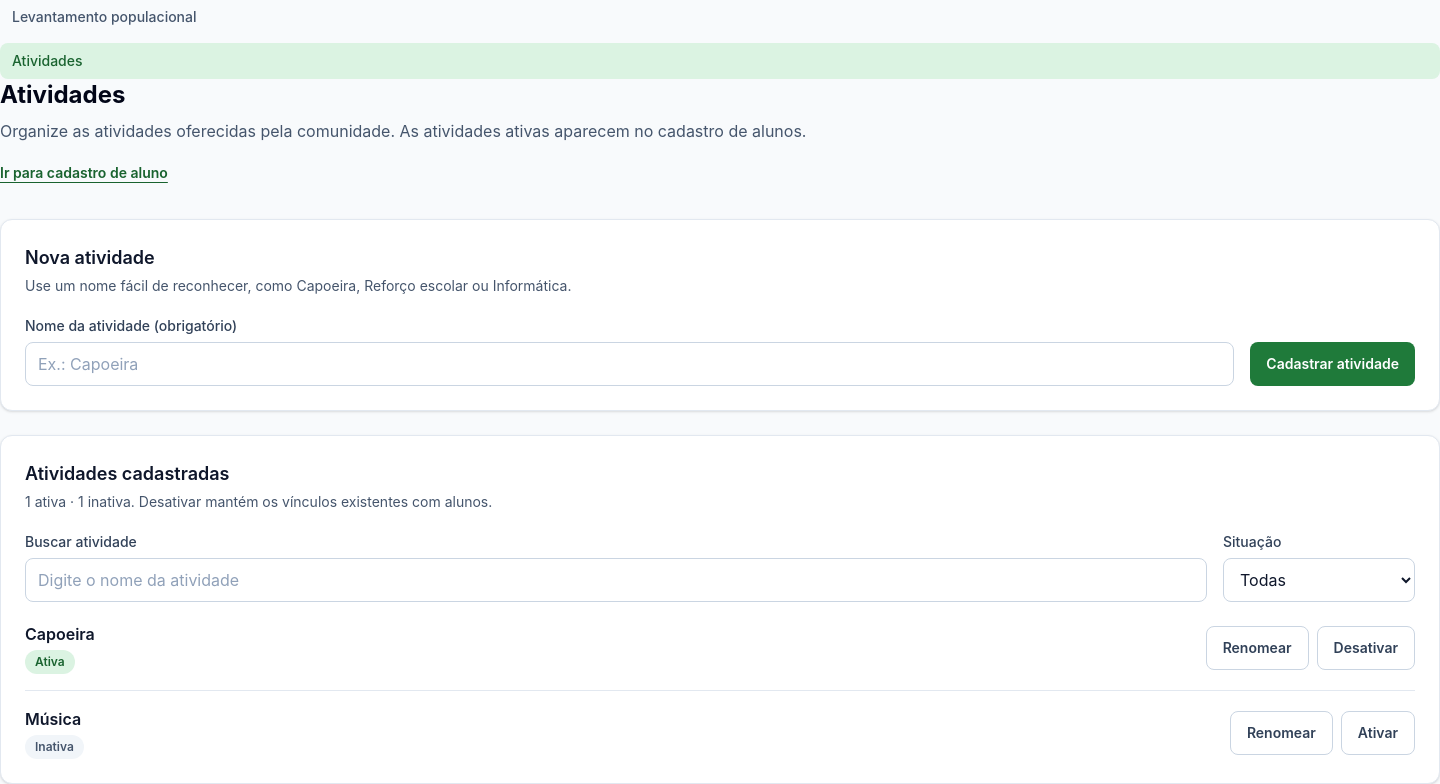
Test: renomeia mantendo o ID, a categoria e a situação da atividade
The width and height of the screenshot is (1440, 784).
(page scrolled)
Click the button with aria-label "Renomear Música" at (1281, 733), box [1230,711,1333,755]
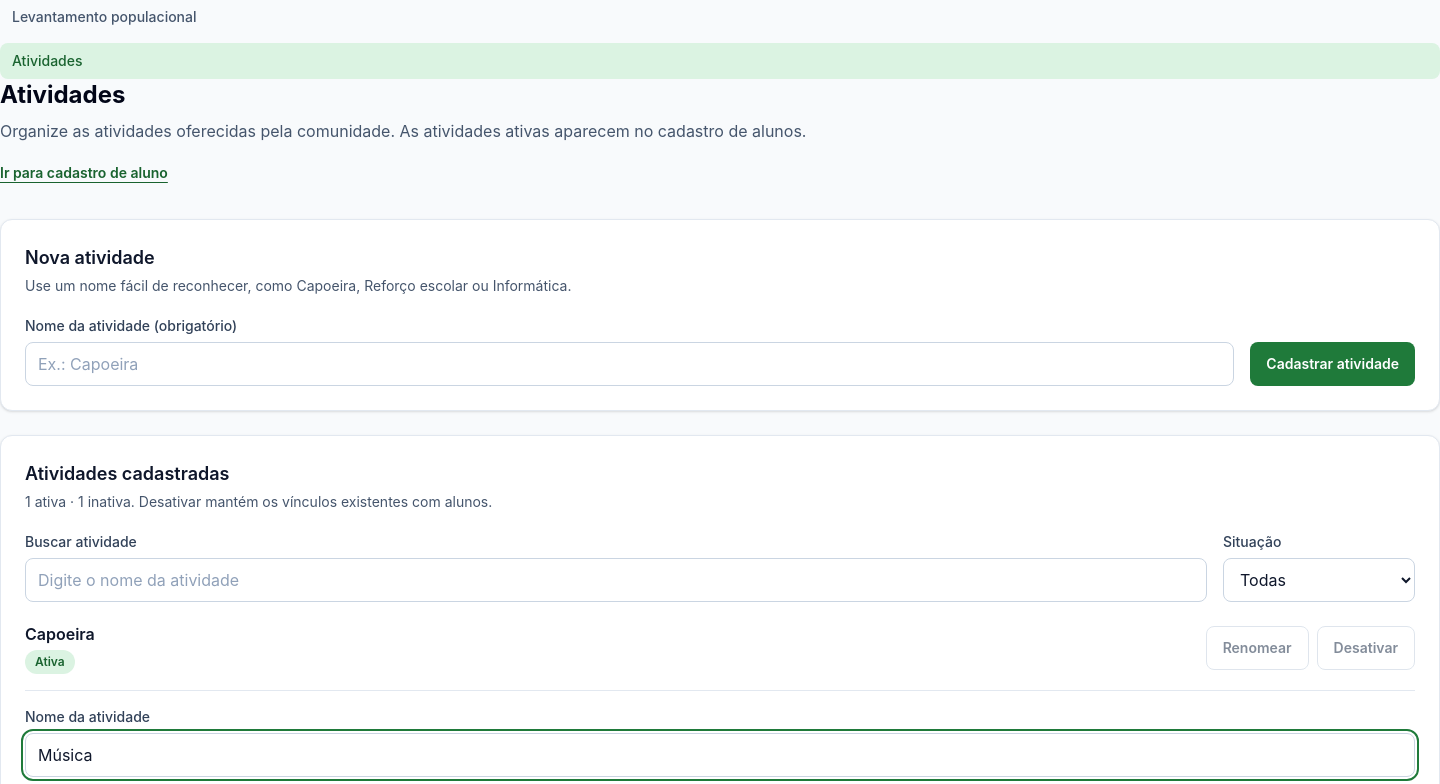
Replace the text in the field labelled "Nome da atividade" with "Musicalização" at (720, 755), box [25,733,1415,777]
(page scrolled)
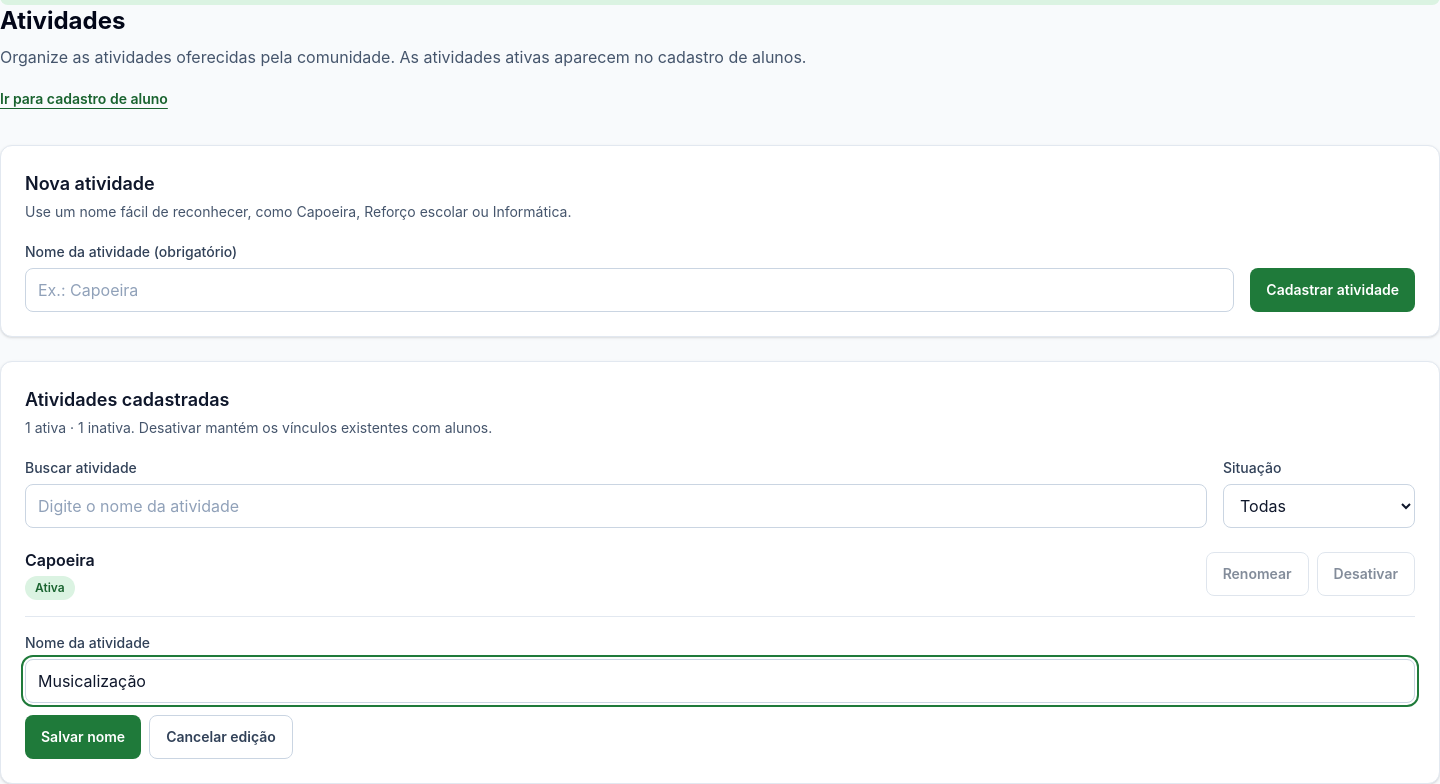
Click the button "Salvar nome" at (83, 737), box [25,715,141,759]
(page scrolled)
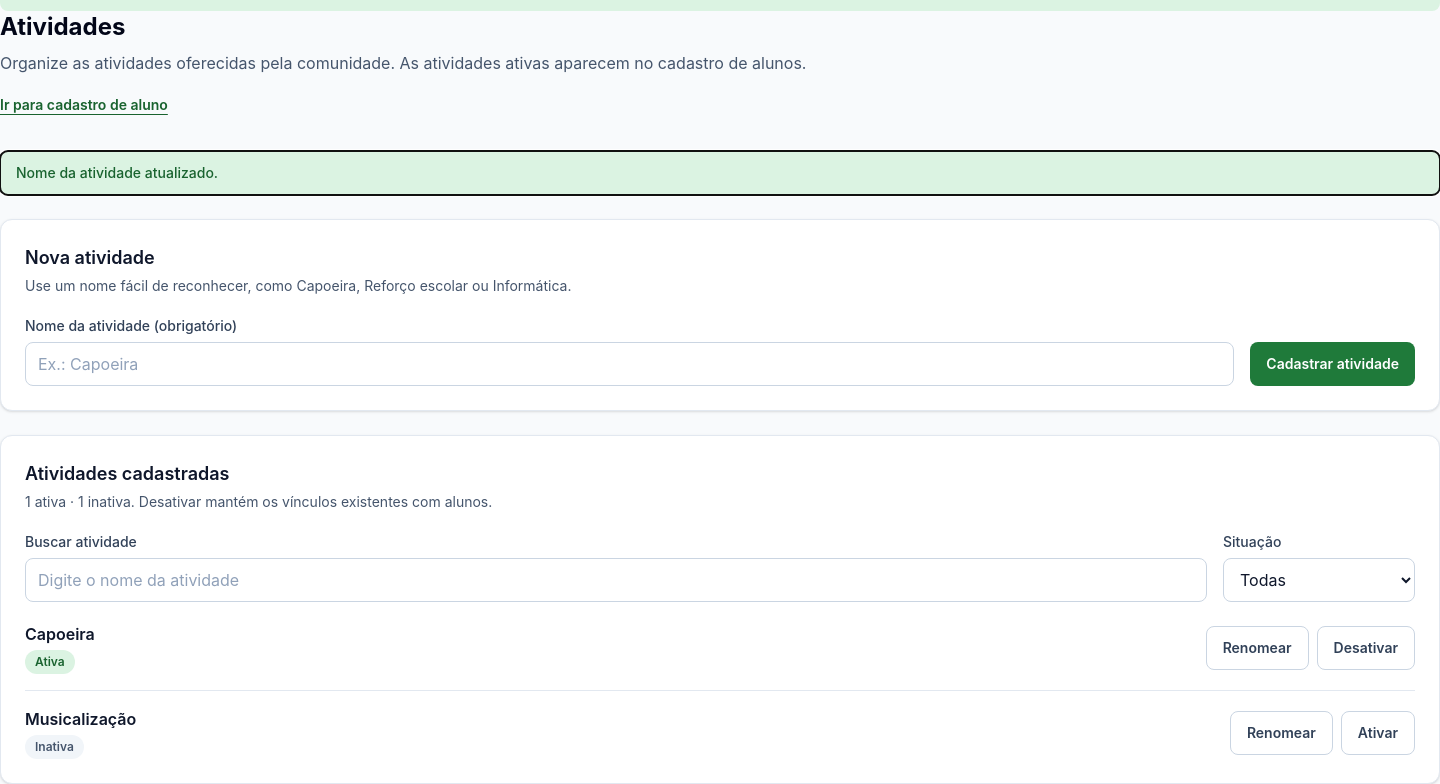
Now the text "Musicalização" is shown, box [25,707,136,731]
